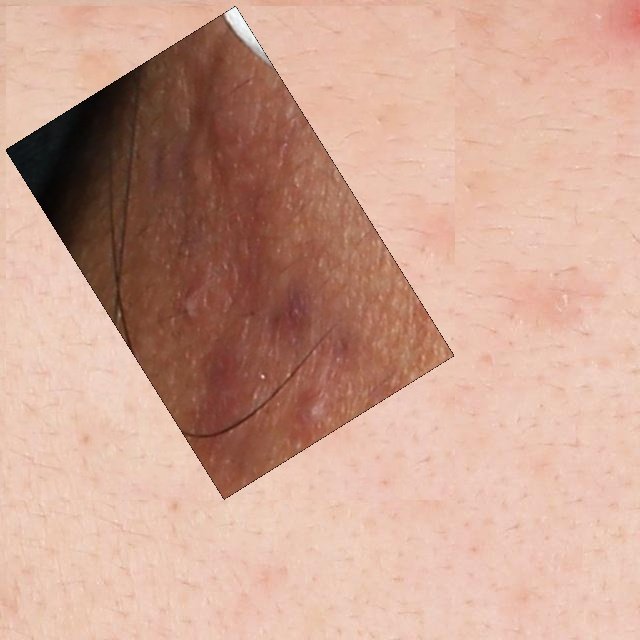nodule: (17, 17, 443, 488)
